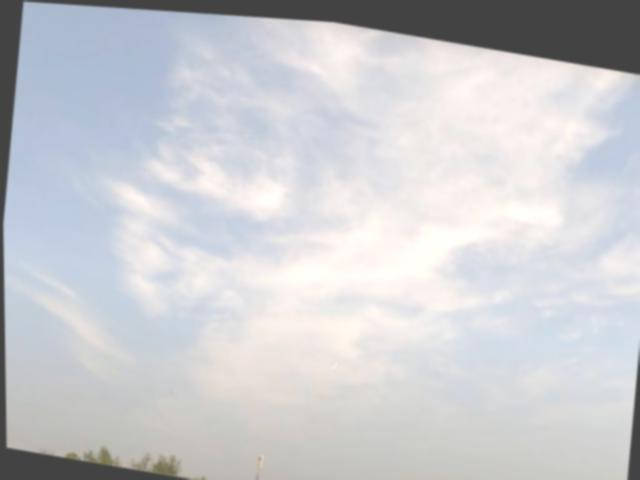iha: (329, 356, 339, 366)
